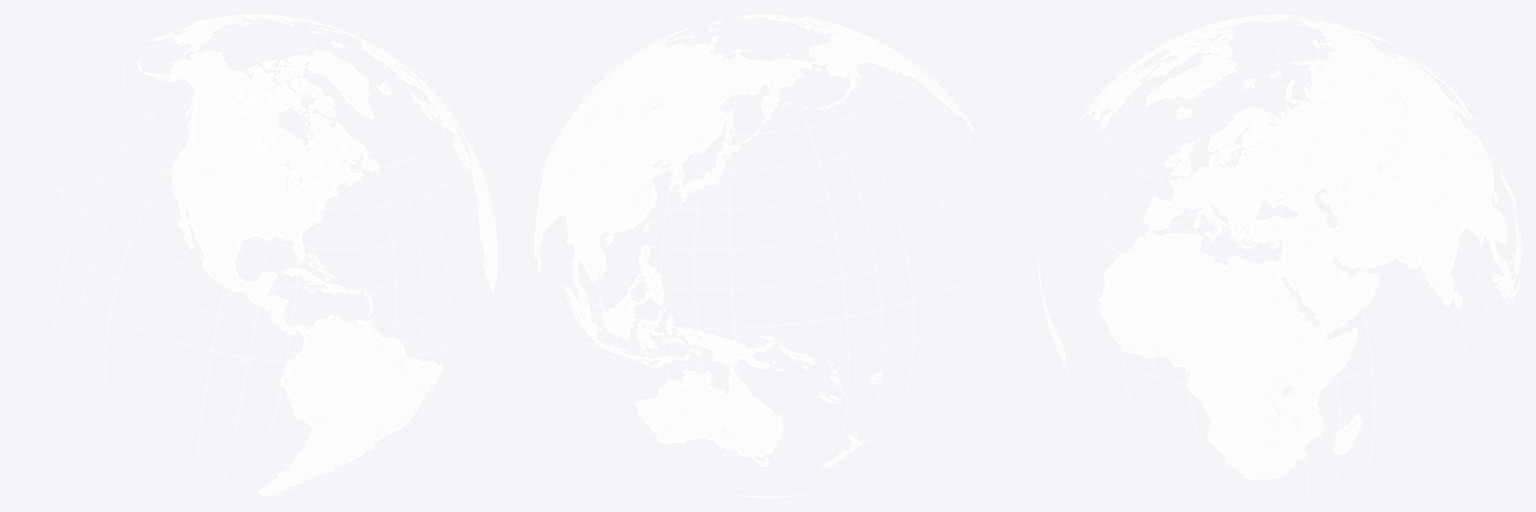
The model's file is globe.glb.
3 views of the same model, side by side, from view 1: azimuth 30°, elevation 25°; view 2: azimuth 150°, elevation 25°; view 3: azimuth 270°, elevation 25° (orthographic).
Parts seen in each view (by area): view 1: Earth; view 2: Earth; view 3: Earth.
Boxes of the visible parts, box(x1,y1,x2,y2) form: Earth: box(17, 14, 497, 496); Earth: box(528, 14, 1007, 497); Earth: box(1038, 14, 1521, 495).
Size of the model in its own units: 2 by 2 by 2.
Materials: 1 (1 with a texture image).
